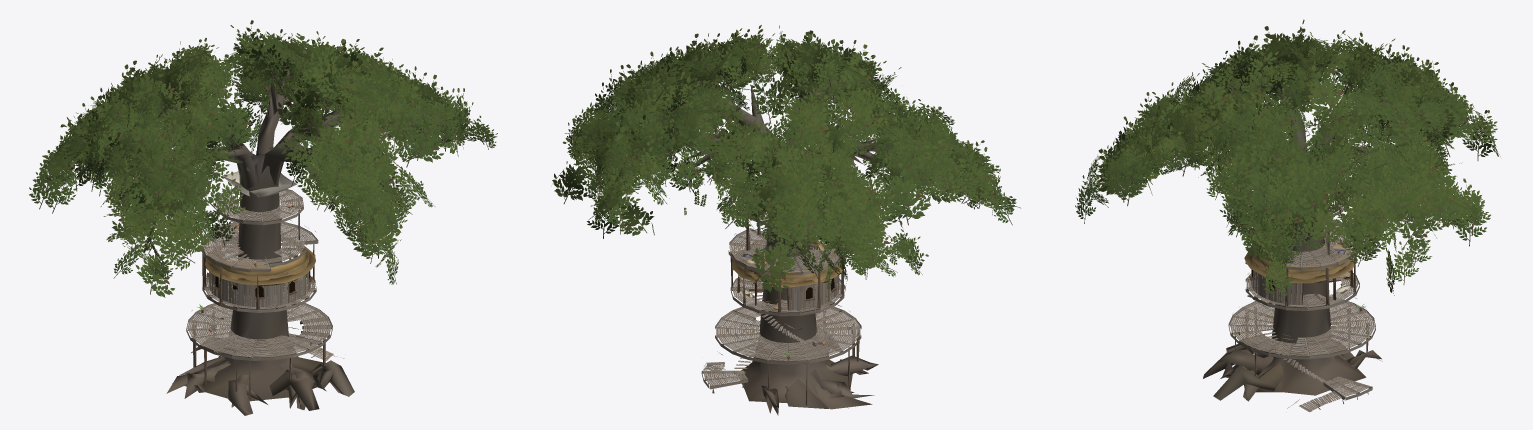
File: canopy-overview.glb
3 views of the same model, side by side, from view 1: azimuth 30°, elevation 25°; view 2: azimuth 150°, elevation 25°; view 3: azimuth 270°, elevation 25° (orthographic).
Visible parts, largest first — view 1: Native Canopy leaves, Native Canopy structure; view 2: Native Canopy leaves, Native Canopy structure; view 3: Native Canopy leaves, Native Canopy structure.
Boxes of the visible parts, left/top/right/bottom form: Native Canopy leaves: left=29, top=20, right=497, bottom=357; Native Canopy structure: left=107, top=63, right=393, bottom=415; Native Canopy leaves: left=552, top=25, right=1020, bottom=391; Native Canopy structure: left=664, top=80, right=916, bottom=415; Native Canopy leaves: left=1075, top=19, right=1500, bottom=355; Native Canopy structure: left=1176, top=83, right=1401, bottom=412.
Bounding box in the file's own units: 12.83 × 9.48 × 11.54.
Materials: 2 (1 with a texture image).
